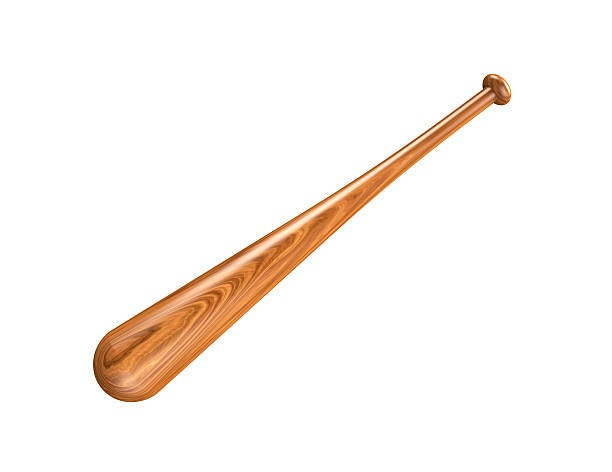bita: (90, 73, 515, 400)
